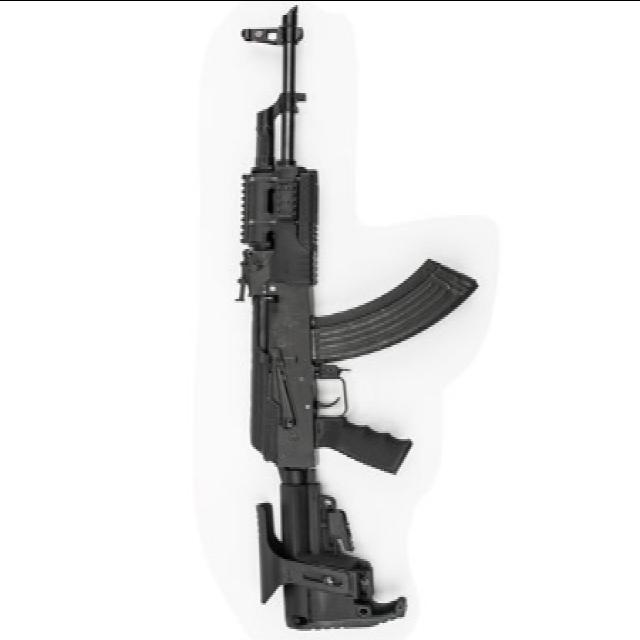rifle: (236, 3, 479, 635)
